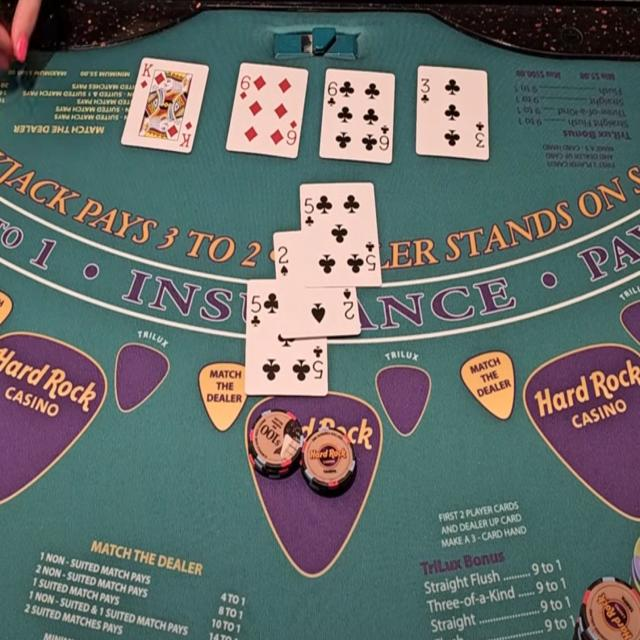2: (277, 245, 290, 265)
3: (418, 75, 432, 94)
5: (248, 293, 263, 314), (302, 195, 315, 215)
6: (240, 72, 252, 91), (326, 81, 339, 97)
K: (140, 59, 154, 79)
